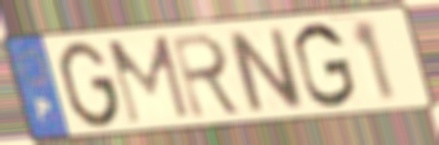1: (350, 17, 399, 105)
G: (290, 19, 359, 110), (56, 39, 123, 131)
M: (103, 32, 194, 128)
N: (222, 25, 309, 115)
R: (168, 30, 247, 121)
